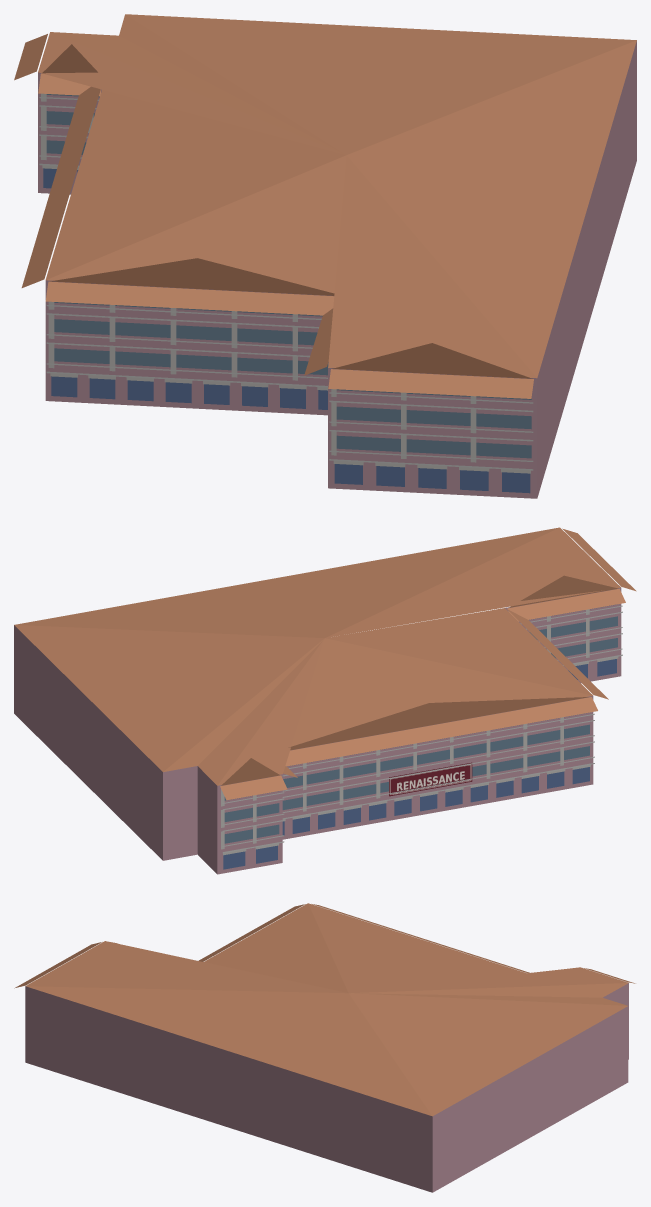
Rendered from m_renaissancearubaresortca.glb.
The picture shows the model from 3 angles, top to bottom: view 1: azimuth 30°, elevation 25°; view 2: azimuth 150°, elevation 25°; view 3: azimuth 270°, elevation 25°; orthographic projection. The views are drawn at different scales.
Parts seen in each view (by area): view 1: m_renaissancearubaresortca_lod0; view 2: m_renaissancearubaresortca_lod0; view 3: m_renaissancearubaresortca_lod0.
Part boxes in pixels (x1,y1,x2,y2): m_renaissancearubaresortca_lod0: [14, 14, 636, 498]; m_renaissancearubaresortca_lod0: [14, 527, 636, 874]; m_renaissancearubaresortca_lod0: [14, 903, 635, 1192].
Size of what is drawn, in the model's own units: 79.53 by 16.4 by 96.06.
Materials: 3 (1 with a texture image).
